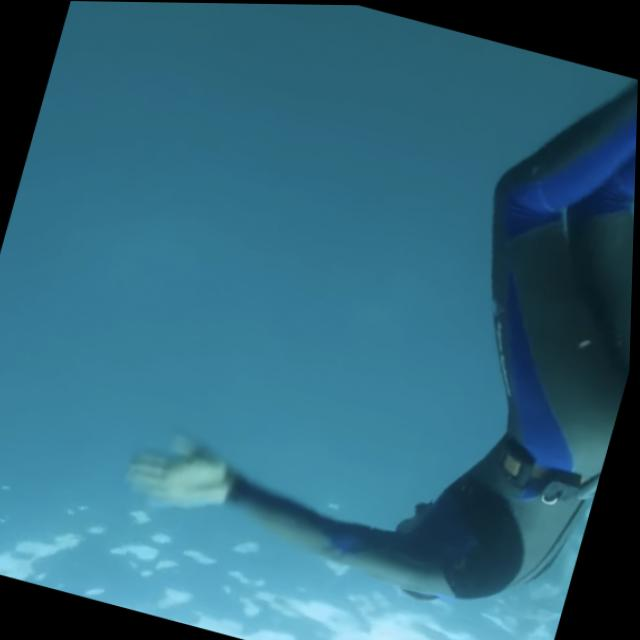human: (103, 1, 640, 640)
